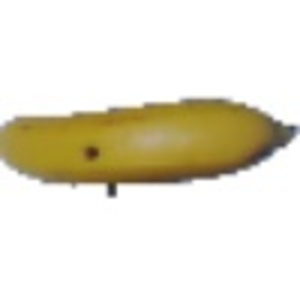banana: (1, 94, 299, 186)
